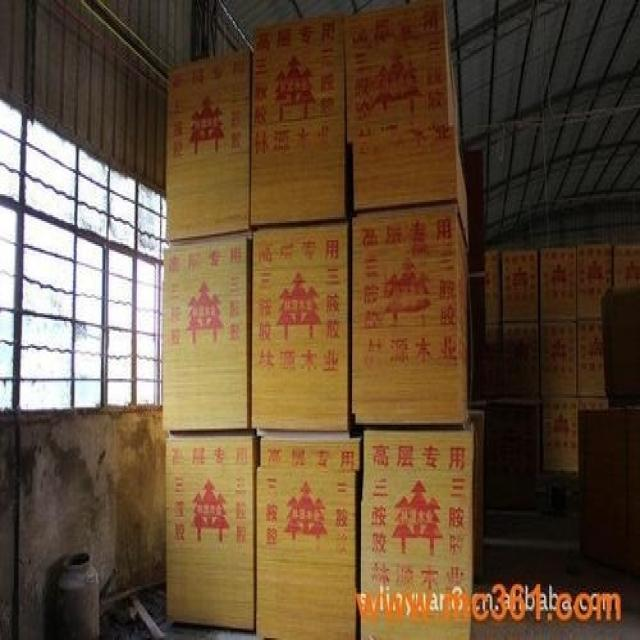box: (346, 0, 468, 248), (356, 409, 484, 638), (349, 200, 468, 434), (255, 431, 361, 640), (251, 223, 352, 434), (251, 23, 347, 233), (165, 431, 257, 628), (163, 233, 252, 431), (166, 38, 251, 242), (497, 396, 543, 473), (573, 242, 613, 323), (539, 317, 579, 394), (541, 392, 579, 473), (500, 321, 539, 398), (538, 244, 575, 319), (499, 250, 538, 321), (577, 323, 604, 396), (611, 244, 640, 292), (486, 252, 500, 323)
